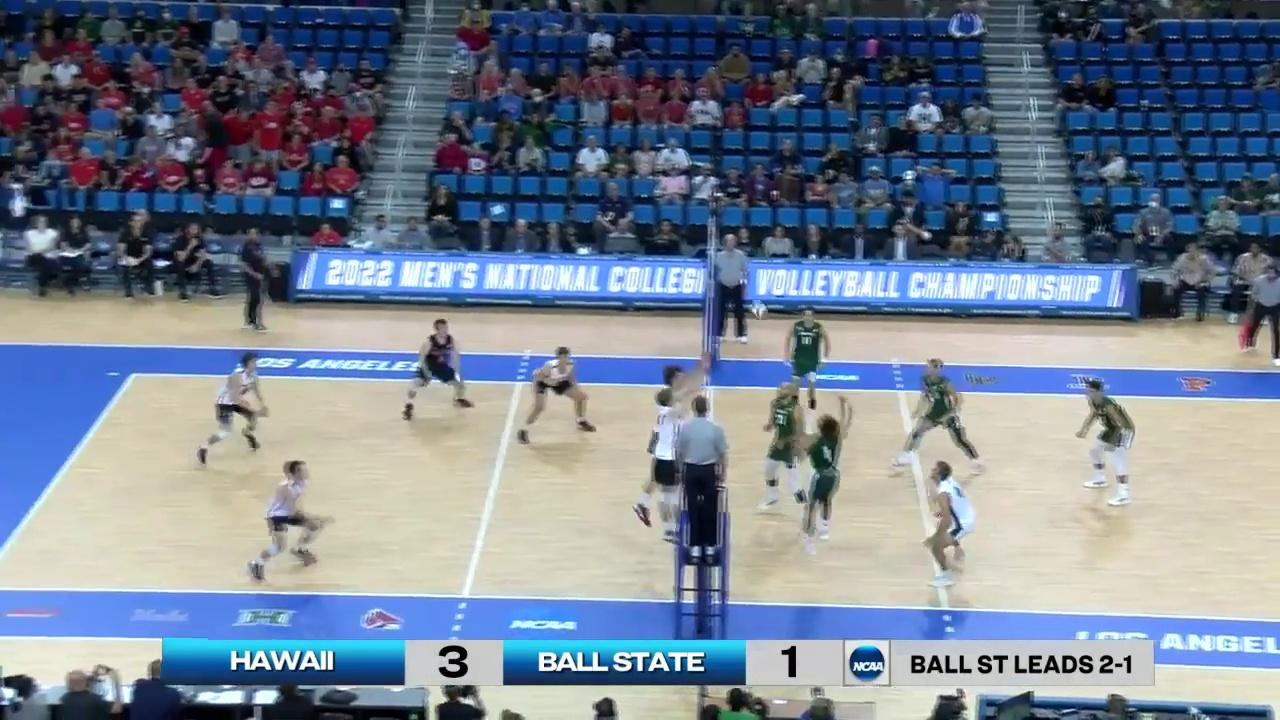player: (894, 360, 989, 476), (512, 344, 598, 446), (251, 462, 323, 580), (648, 366, 697, 522), (1078, 377, 1139, 502), (203, 353, 273, 460), (758, 383, 814, 515), (404, 317, 470, 418), (925, 462, 978, 587), (641, 388, 684, 535), (803, 413, 846, 550), (786, 304, 830, 427)
refree: (672, 393, 731, 559), (1244, 249, 1280, 364), (714, 234, 751, 341)
